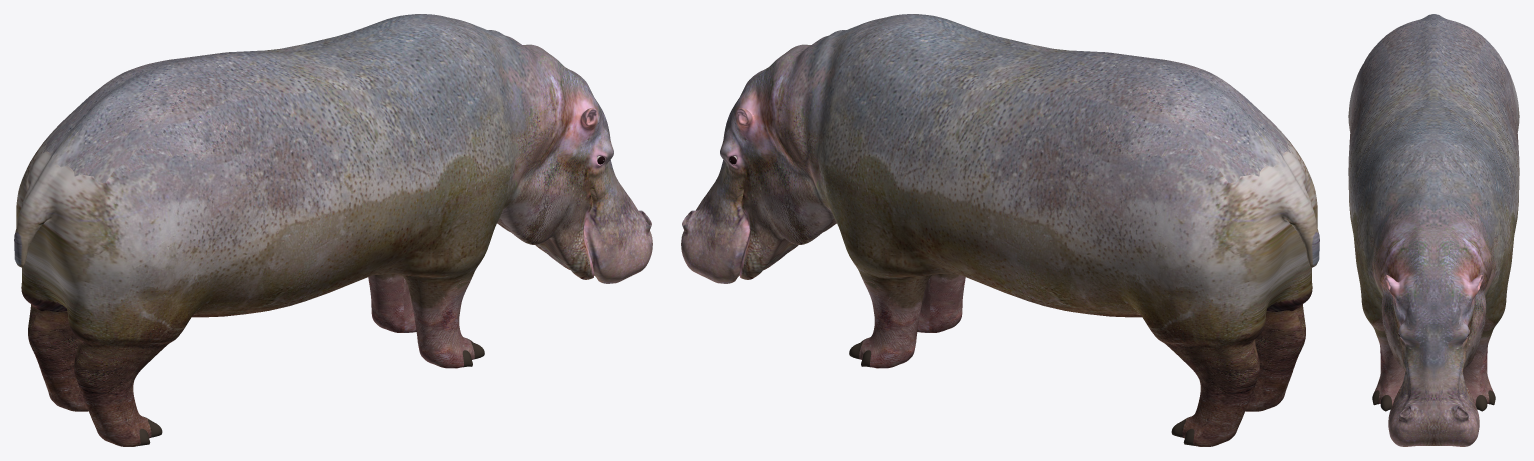
File: Hippo.FBX
3 renders of one model, left to right at view 1: azimuth 30°, elevation 25°; view 2: azimuth 150°, elevation 25°; view 3: azimuth 270°, elevation 25°, orthographic. The views are drawn at different scales.
Parts seen in each view (by area): view 1: hipocpo; view 2: hipocpo; view 3: hipocpo.
Part boxes in pixels (x1,y1,x2,y2): hipocpo: (14,14,652,446); hipocpo: (681,14,1319,446); hipocpo: (1348,14,1519,446).
Size of the model in its own units: 451 by 236 by 133.
Materials: 5 (4 with a texture image).
